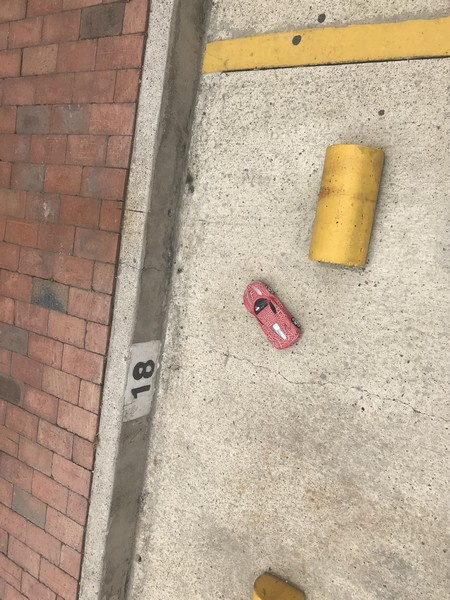RC: (242, 279, 305, 351)
